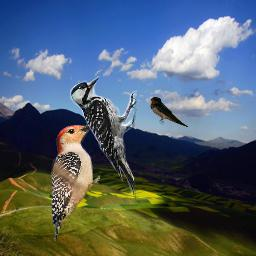Swallow: (149, 96, 189, 128)
Woodpecker: (69, 76, 139, 201), (51, 119, 100, 241)
